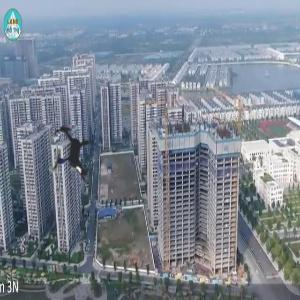drone: (23, 107, 120, 204)
